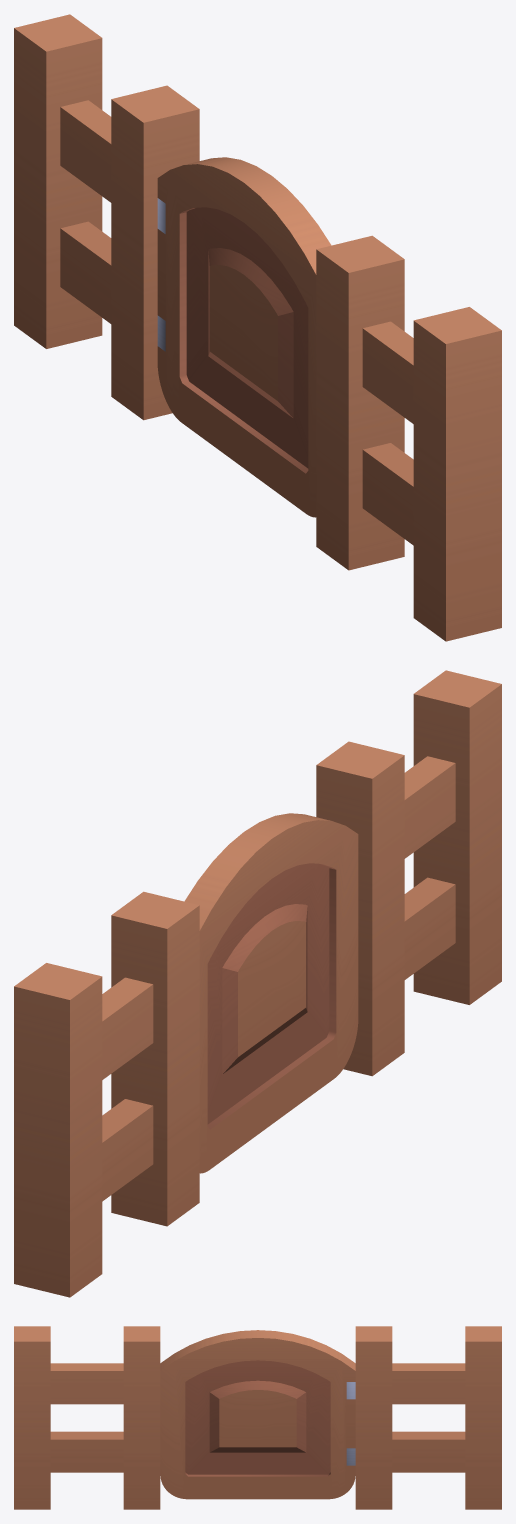
Rendered from fence-gate.fbx.
3 renders of one model, top to bottom at view 1: azimuth 30°, elevation 25°; view 2: azimuth 150°, elevation 25°; view 3: azimuth 270°, elevation 25°, orthographic. The views are drawn at different scales.
Visible parts, largest first — view 1: fence-gate, gate; view 2: fence-gate, gate; view 3: fence-gate, gate.
Boxes of the visible parts, <box> form: fence-gate: <box>14,14,501,641</box>; gate: <box>157,157,331,517</box>; fence-gate: <box>14,670,501,1297</box>; gate: <box>184,813,358,1173</box>; fence-gate: <box>14,1326,501,1509</box>; gate: <box>160,1330,355,1499</box>.
Size of the model in its own units: 7.5 by 38 by 100.
Materials: 1 (1 with a texture image).
